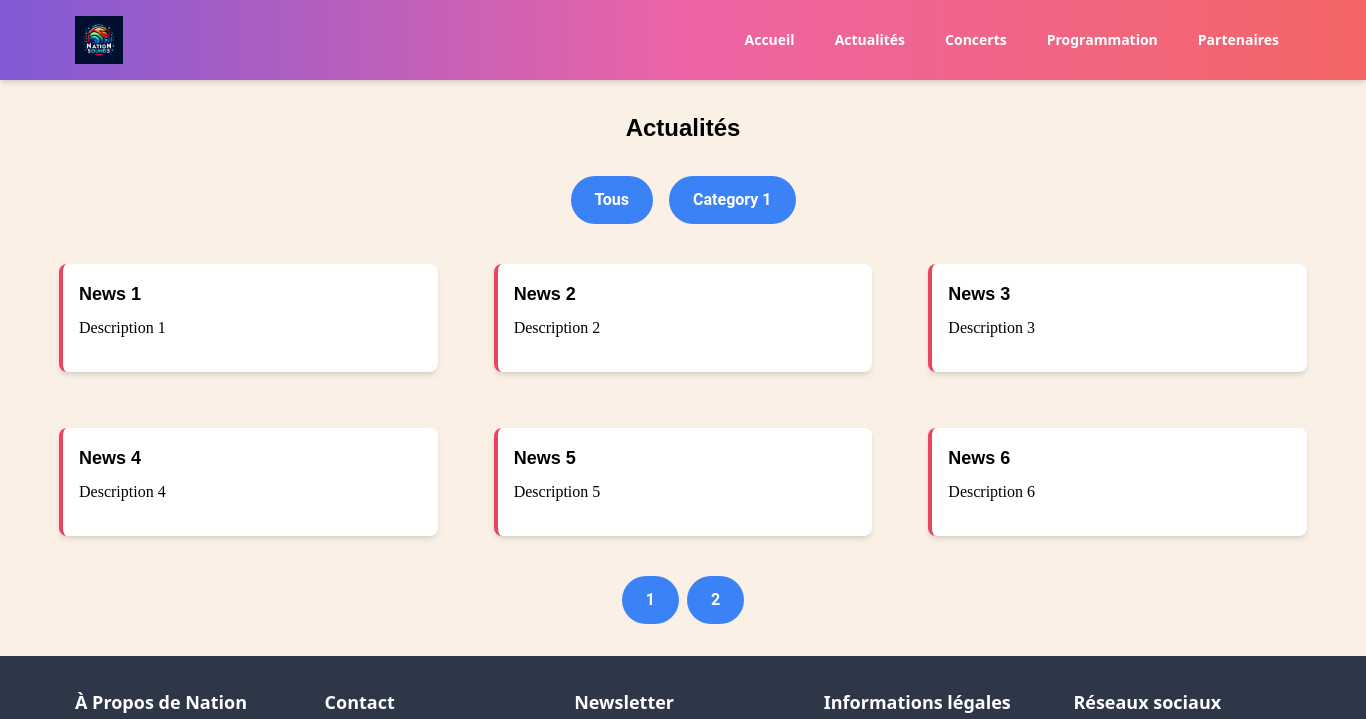
Scenario: NewsPage › paginates news items correctly
Expected: the heading "News 1" is shown, x1=79 y1=284 x2=141 y2=304
Expected: the heading "News 6" is shown, x1=948 y1=448 x2=1010 y2=468
Click the button "2" at (716, 600), box x1=687 y1=576 x2=744 y2=624
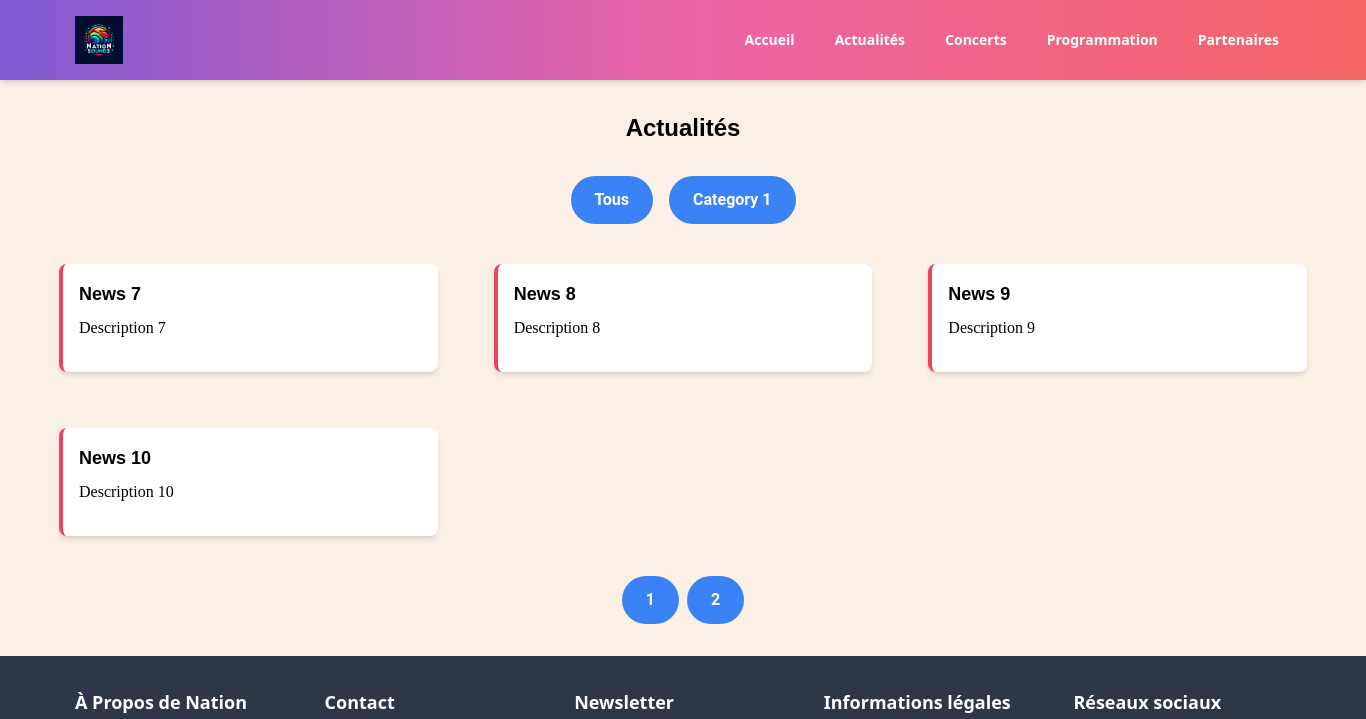
Result: the heading "News 7" is shown at x1=79 y1=284 x2=141 y2=304
Result: the heading "News 10" is shown at x1=79 y1=448 x2=151 y2=468
